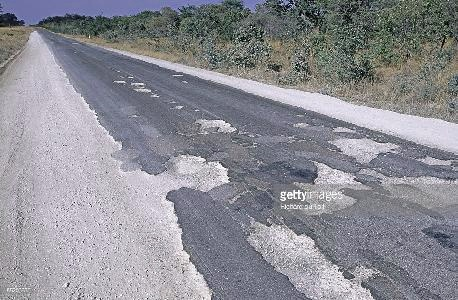pothole: (243, 217, 379, 298), (157, 149, 231, 191), (326, 134, 400, 162), (307, 156, 361, 184), (194, 115, 236, 134), (409, 154, 452, 166), (129, 84, 150, 93), (112, 77, 126, 82)
